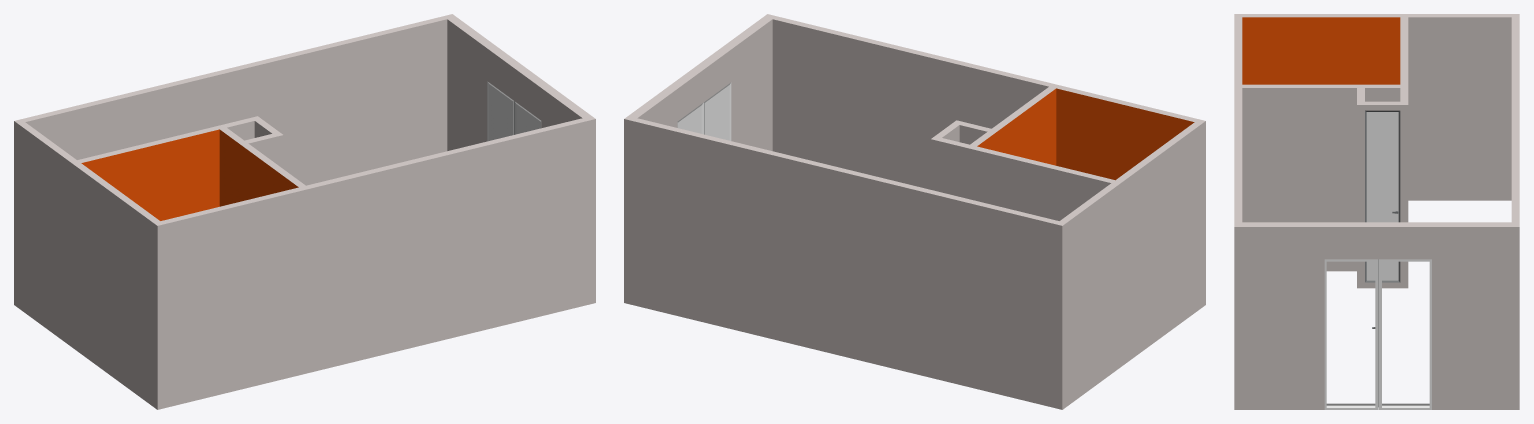
Rendered from Walls.glb.
3 views of the same model, side by side, from view 1: azimuth 30°, elevation 25°; view 2: azimuth 150°, elevation 25°; view 3: azimuth 270°, elevation 25° (orthographic).
Parts seen in each view (by area): view 1: Wall; view 2: Wall; view 3: Wall.
Boxes of the visible parts, x1,y1,x2,y2 form: Wall: (14,14,595,409); Wall: (624,14,1205,409); Wall: (1234,14,1519,409).
Bounding box in the file's own units: 6.23 × 2.5 × 3.53.
